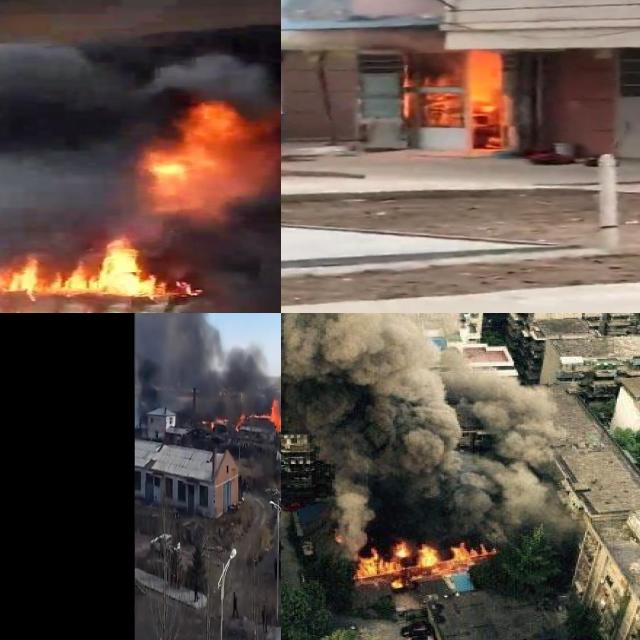fire: (139, 105, 265, 212), (0, 239, 179, 297), (394, 51, 512, 131), (351, 535, 489, 583), (231, 396, 281, 427), (267, 399, 281, 431)
smoke: (281, 313, 557, 531), (0, 54, 133, 255), (203, 191, 281, 313), (135, 313, 220, 404), (153, 56, 271, 105), (222, 342, 266, 404)
